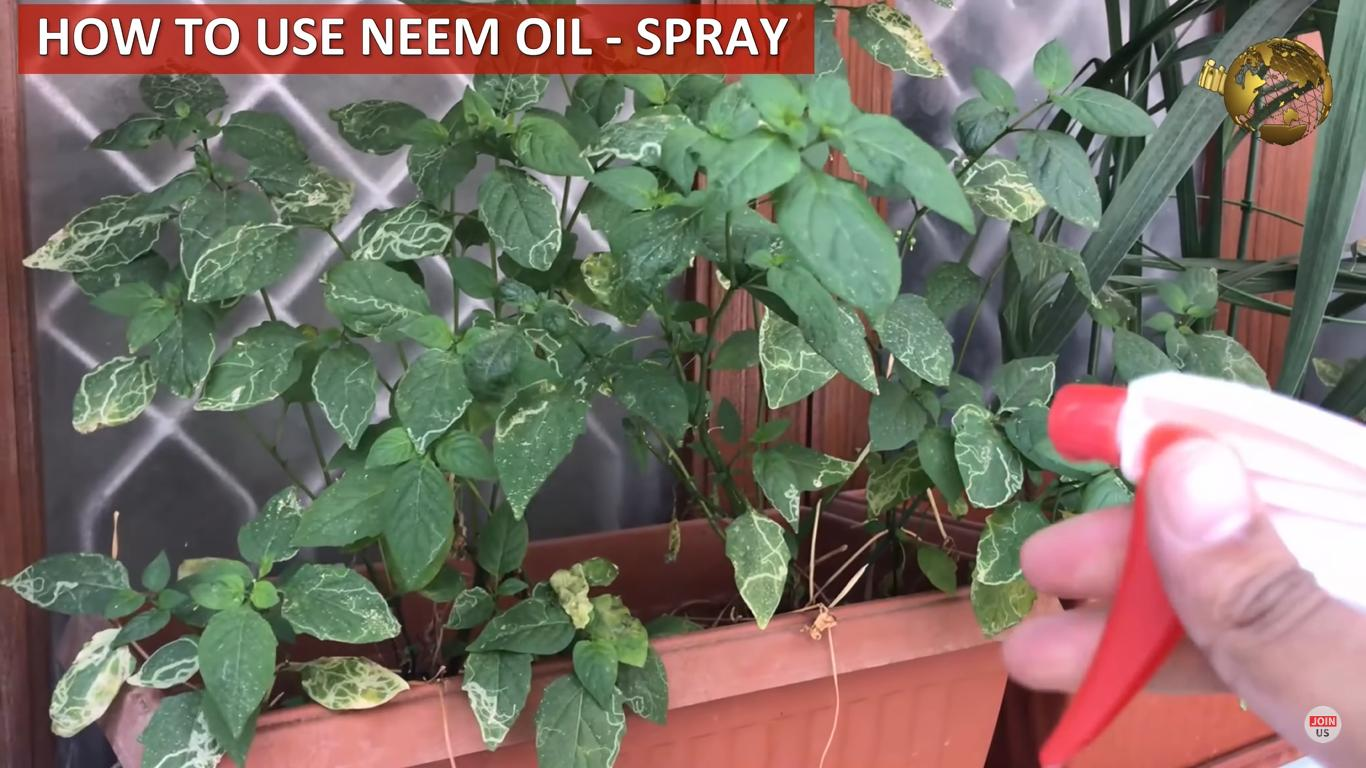Healthy: (1071, 85, 1159, 138), (1033, 39, 1073, 91)
Leaf_Miner: (493, 378, 593, 521), (20, 187, 178, 276), (191, 318, 304, 414), (379, 455, 455, 593), (278, 561, 403, 644), (185, 218, 298, 306), (48, 627, 136, 739), (318, 258, 430, 342), (476, 165, 562, 271), (396, 347, 475, 457), (759, 304, 839, 412), (0, 552, 132, 617), (538, 673, 627, 768), (845, 2, 951, 81), (947, 403, 1024, 510), (874, 293, 956, 390), (725, 512, 793, 628), (248, 160, 358, 231), (611, 354, 692, 449), (460, 651, 535, 753), (72, 348, 159, 435), (312, 339, 379, 451), (286, 653, 412, 712), (135, 693, 227, 768), (349, 200, 454, 264), (465, 597, 577, 657), (578, 110, 693, 167), (976, 499, 1050, 586), (153, 303, 218, 400), (956, 154, 1046, 223), (328, 98, 426, 158), (863, 443, 937, 517), (1189, 328, 1272, 392), (237, 484, 305, 562), (406, 138, 479, 210), (969, 568, 1039, 640), (615, 643, 669, 726), (989, 353, 1060, 415), (752, 446, 801, 533), (127, 634, 202, 690), (781, 441, 858, 494), (139, 76, 230, 118), (472, 73, 549, 116), (572, 73, 626, 131), (815, 0, 846, 82), (523, 324, 567, 379), (446, 585, 494, 632), (579, 249, 617, 304), (1166, 327, 1189, 369)
